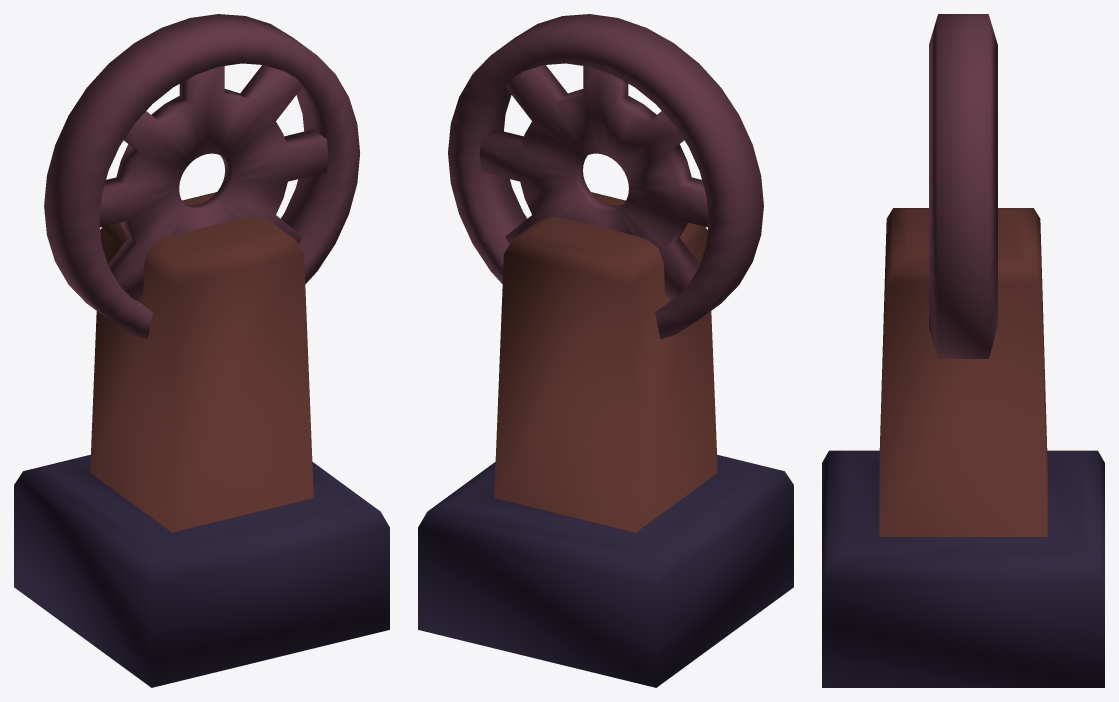
Rendered from draw_wheel.glb.
3 renders of one model, left to right at view 1: azimuth 30°, elevation 25°; view 2: azimuth 150°, elevation 25°; view 3: azimuth 270°, elevation 25°, orthographic. The views are drawn at different scales.
Parts seen in each view (by area): view 1: Cube, Circle; view 2: Cube, Circle; view 3: Cube, Circle.
Part boxes in pixels (x1,y1,x2,y2): Cube: [14, 192, 389, 687]; Circle: [44, 14, 359, 339]; Cube: [418, 192, 793, 687]; Circle: [448, 14, 763, 339]; Cube: [822, 208, 1104, 687]; Circle: [929, 14, 997, 358].
Size of the model in its own units: 2.45 by 4.67 by 2.
